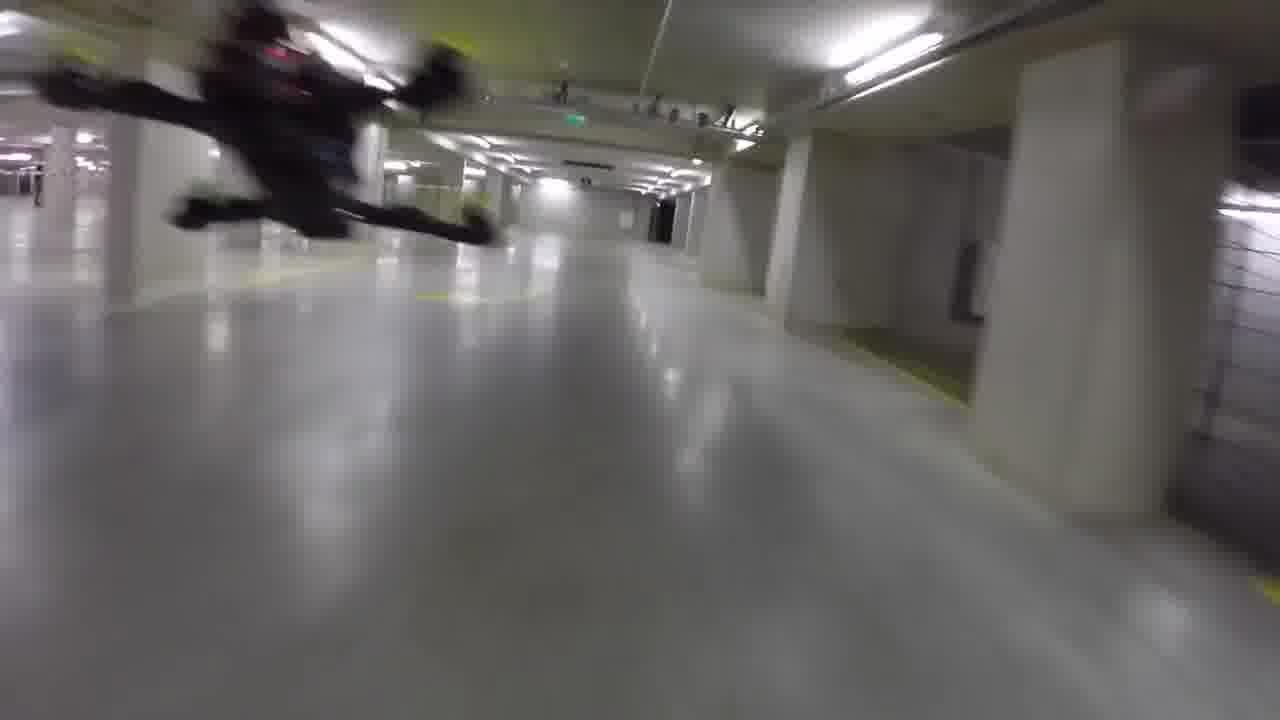drone: (33, 21, 503, 265)
